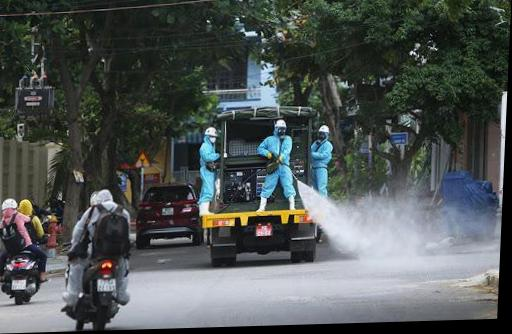License_Plate: (95, 275, 117, 295), (254, 223, 275, 237), (8, 278, 29, 292), (161, 208, 174, 217)
